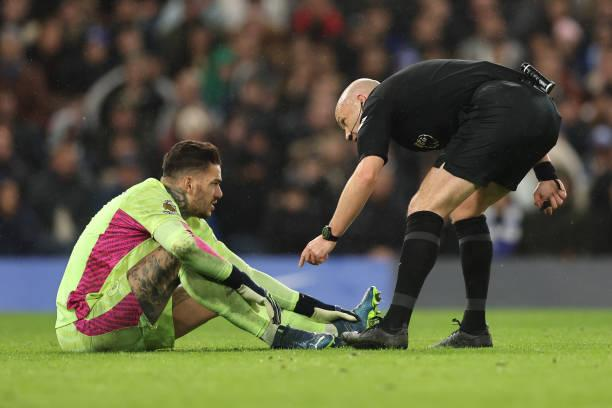Goalkeeper: (55, 140, 380, 352)
referee: (301, 61, 567, 349)
